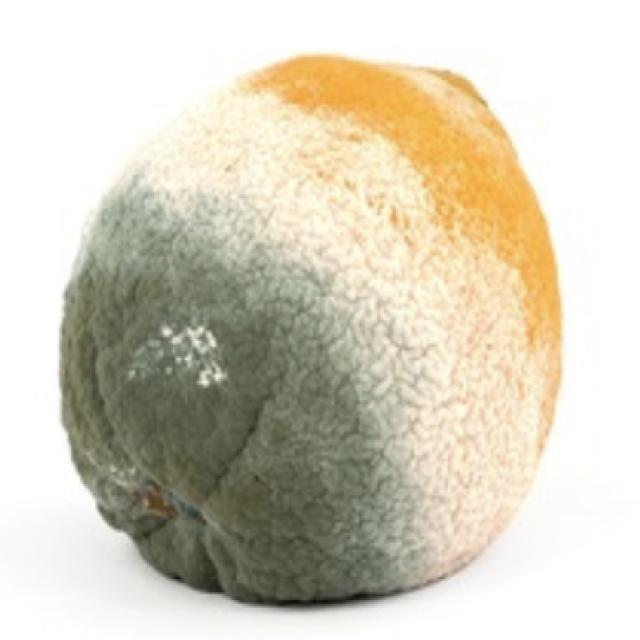sangat-busuk: (61, 56, 559, 601), (62, 113, 535, 602)
